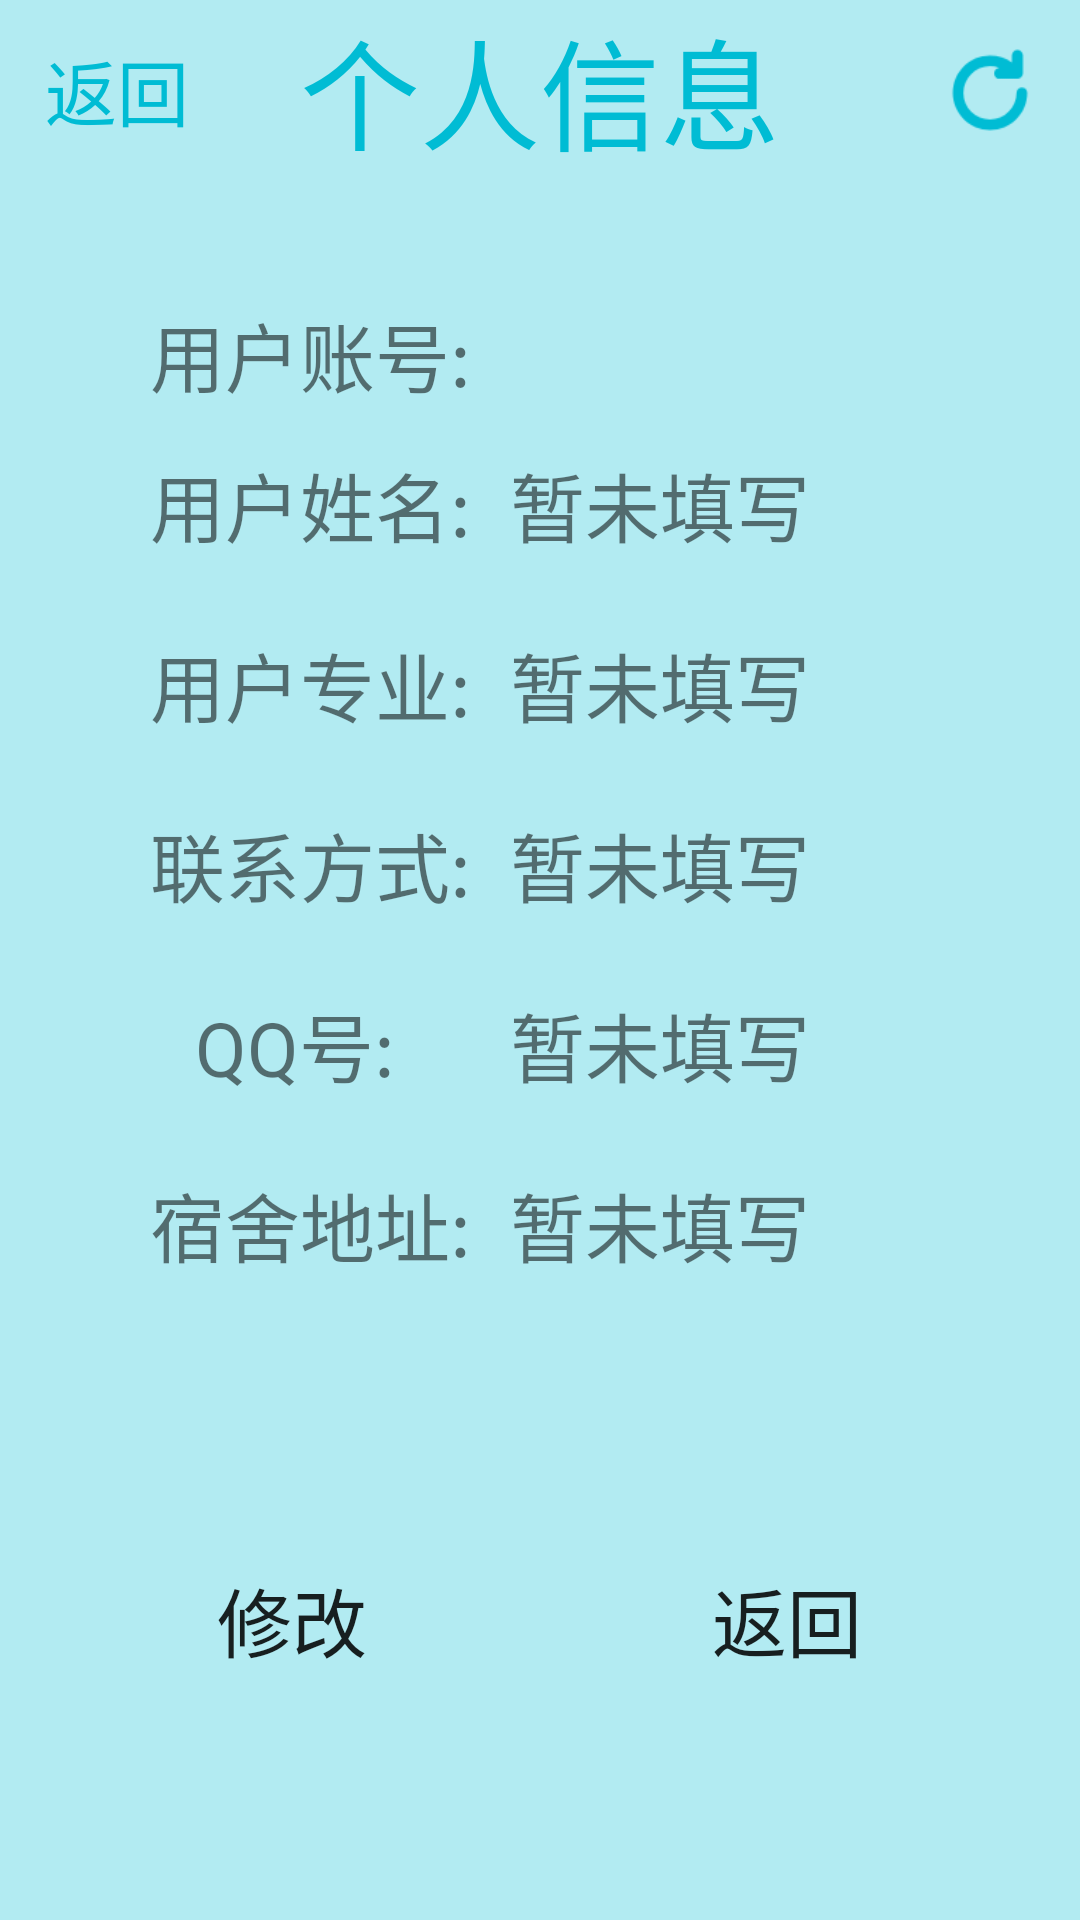

Where icons sit on this 1080w x 1920h app screen, as rect(x1, y1, x2, y2):
refresh: rect(952, 49, 1028, 131)
